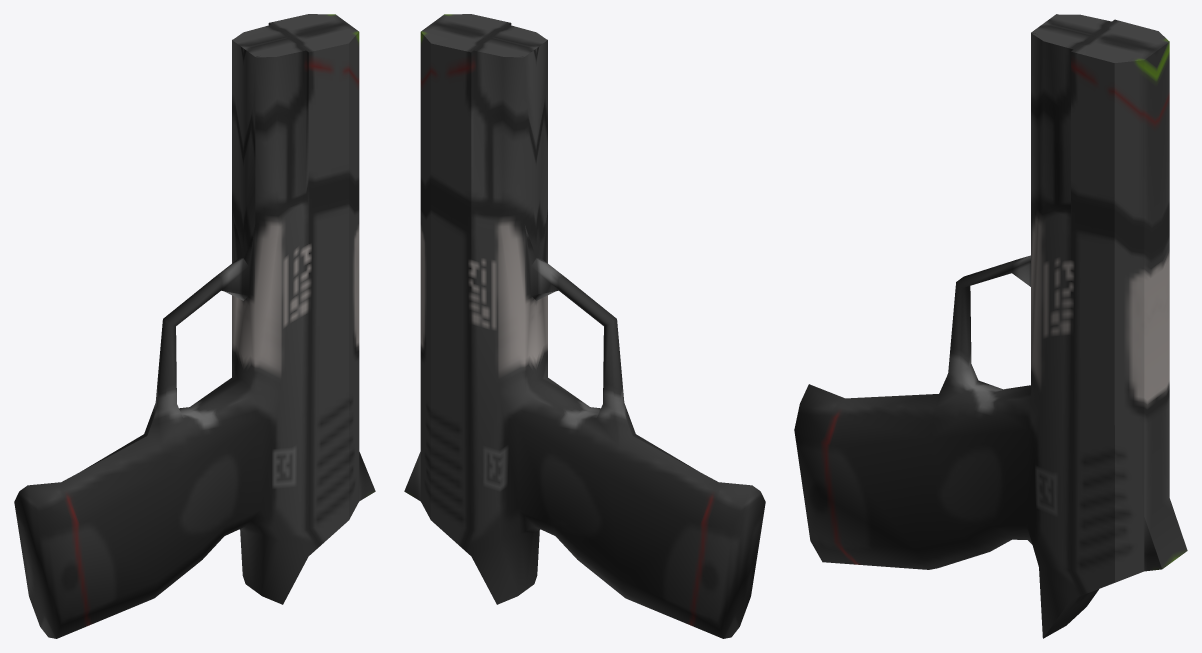
The model's file is ReplikaPistol.fbx.
3 renders of one model, left to right at view 1: azimuth 30°, elevation 25°; view 2: azimuth 150°, elevation 25°; view 3: azimuth 330°, elevation 25°, orthographic. The views are drawn at different scales.
Visible parts, largest first — view 1: Pistol Smol; view 2: Pistol Smol; view 3: Pistol Smol.
Boxes of the visible parts, box(x1,y1,x2,y2) form: Pistol Smol: box(14, 14, 375, 638); Pistol Smol: box(404, 14, 765, 638); Pistol Smol: box(794, 14, 1187, 638).
Bounding box in the file's own units: 0.0224 × 0.168 × 0.1078.
